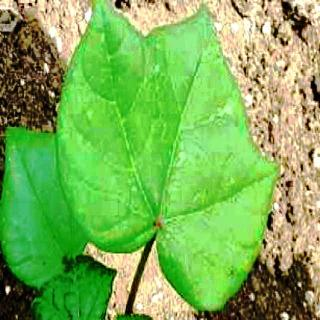healthy: (15, 15, 305, 305)
